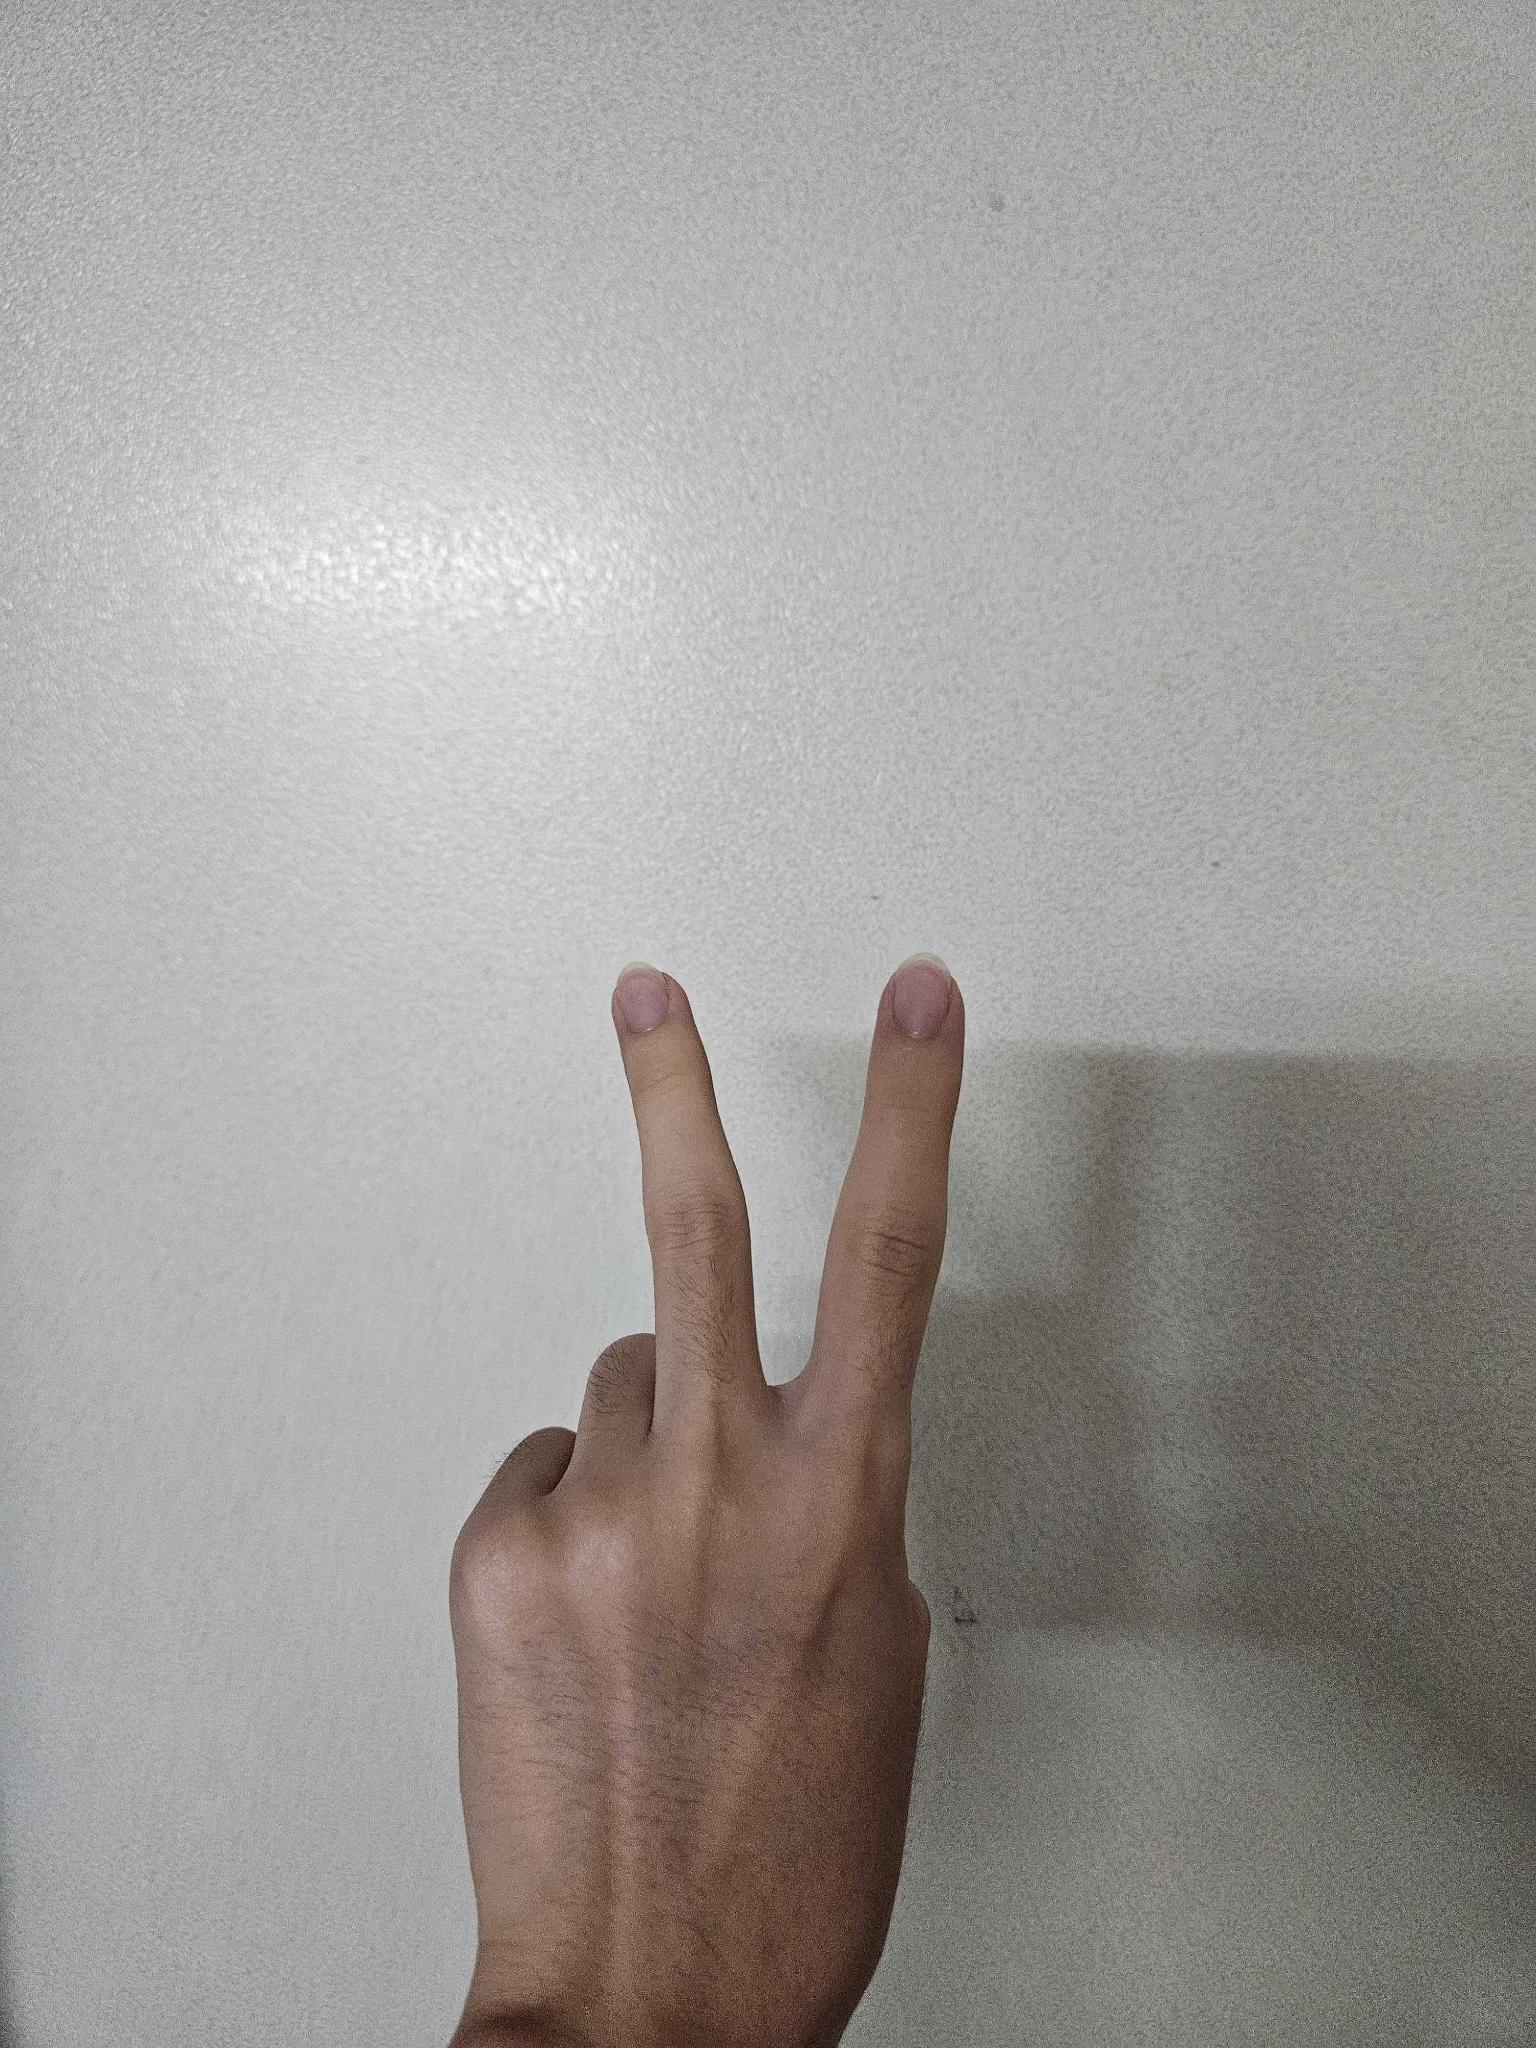v: (419, 940, 965, 2048)
